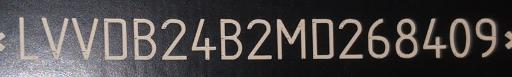letter: (275, 17, 307, 60), (40, 16, 70, 61), (158, 17, 188, 62), (70, 17, 98, 62), (189, 17, 217, 60), (336, 17, 364, 60), (422, 15, 448, 60), (131, 17, 157, 62), (102, 17, 128, 62), (245, 19, 273, 60), (310, 17, 334, 60), (218, 17, 242, 60), (18, 16, 40, 61), (474, 17, 498, 58), (394, 17, 418, 58), (448, 17, 472, 58), (366, 18, 390, 59)
